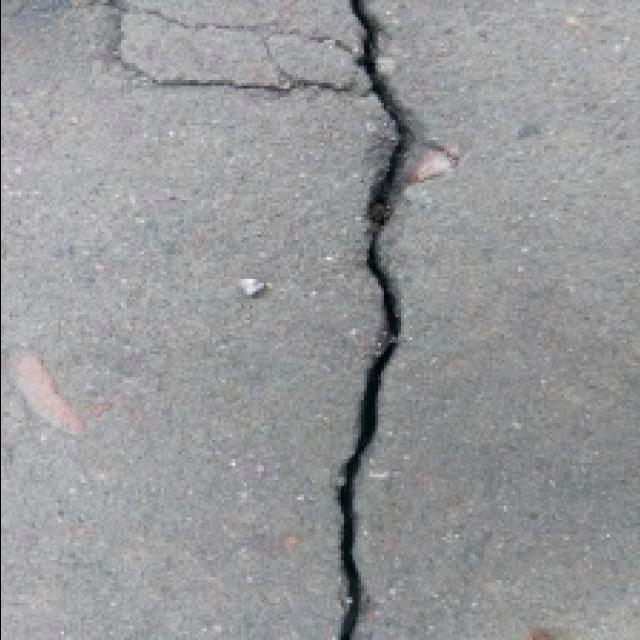SurfaceCrack: (300, 0, 462, 640), (90, 0, 428, 128)
